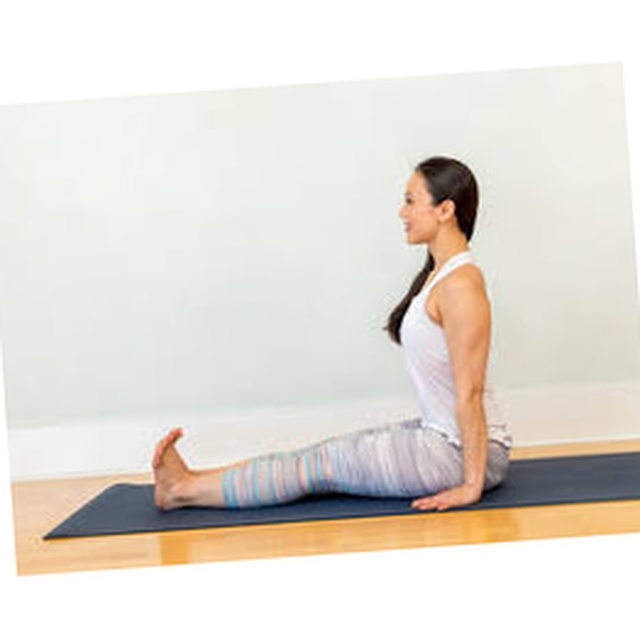Staff_Pose: (152, 157, 515, 513)
